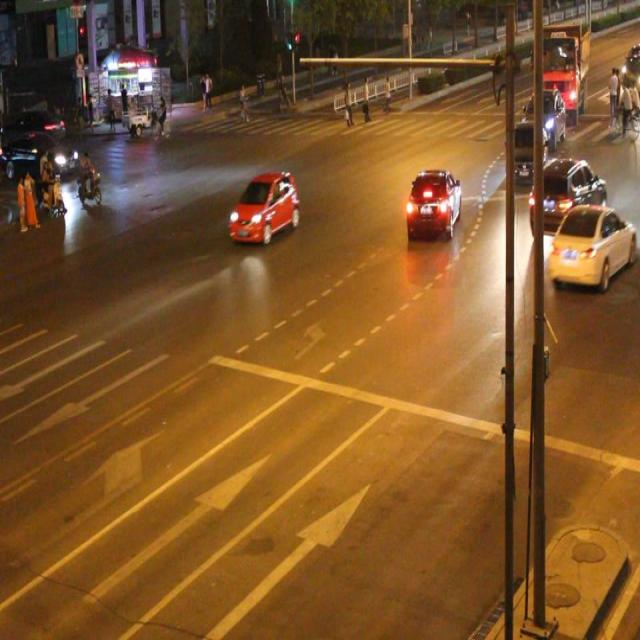car: (547, 202, 640, 286), (528, 154, 606, 238), (228, 171, 300, 243), (404, 167, 460, 240), (506, 120, 547, 186)
